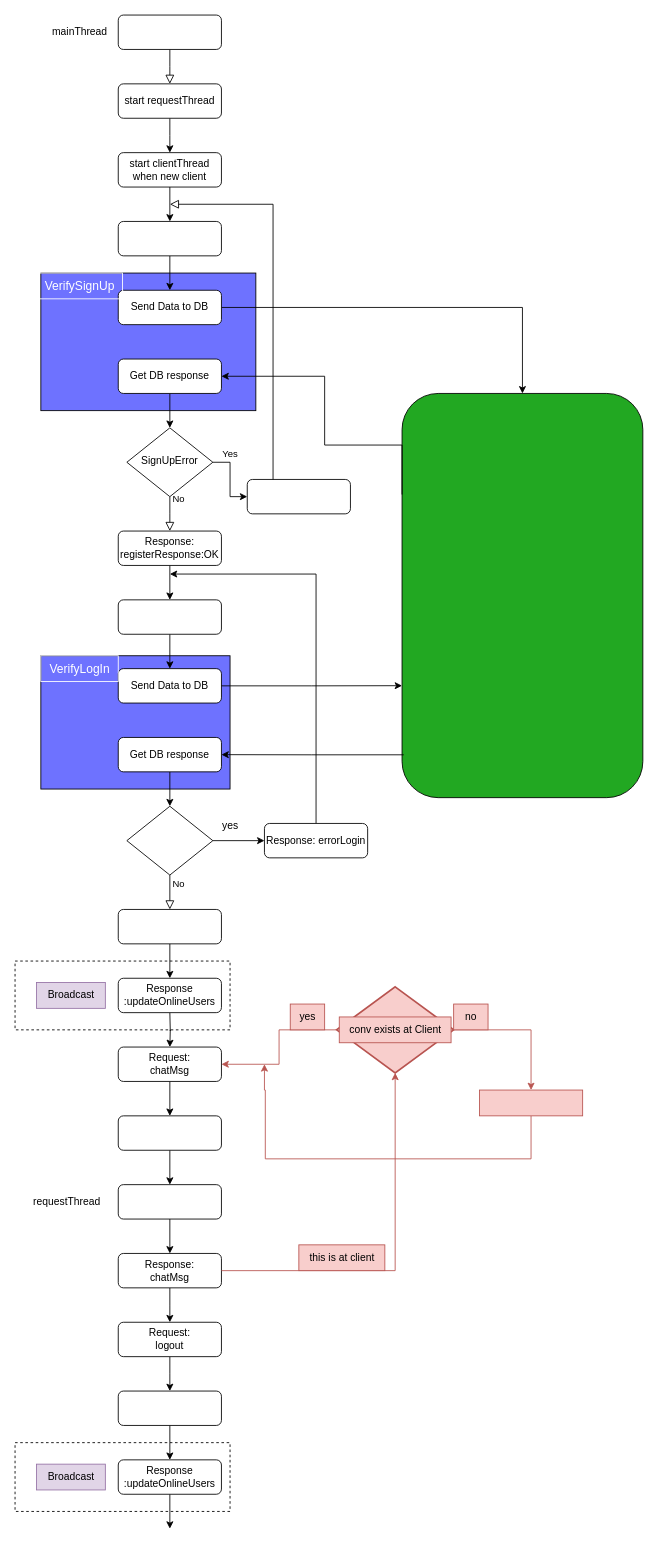
The diagram is 658 pixels wide and 1551 high, and some of its shapes have lost their labels. The box of each missing label's shape, as (x1, y1, x2, y2) in pixels:
Add new client to client list: (117, 909, 221, 944)
Client creates conv: (479, 1089, 583, 1116)
Database: (401, 393, 643, 798)
LogInError: (126, 805, 213, 875)
Put msg in requestQ: (117, 1115, 221, 1150)
Remove client from client list: (117, 1390, 221, 1425)
Request: login: (117, 599, 221, 634)
Request: register: (117, 221, 221, 256)
Response: registerResponse:bad: (246, 479, 350, 514)
Server Start: (117, 14, 221, 49)
Take msg from requestQ: (117, 1184, 221, 1219)
